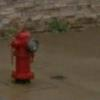Hydrant: (5, 22, 42, 83)
